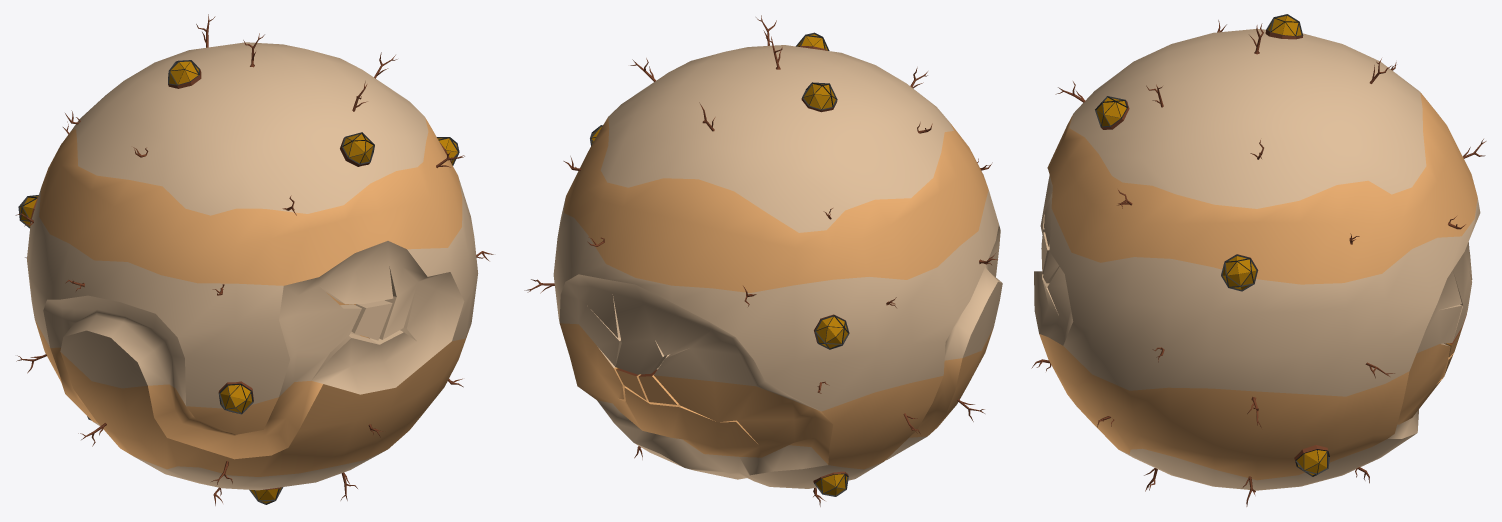
Rendered from Planet-TypeC-Drought.fbx.
The picture shows the model from 3 angles, left to right: view 1: azimuth 30°, elevation 25°; view 2: azimuth 150°, elevation 25°; view 3: azimuth 270°, elevation 25°; orthographic projection. The views are drawn at different scales.
Parts seen in each view (by area): view 1: Planet_TypeC_Drought_01; view 2: Planet_TypeC_Drought_01; view 3: Planet_TypeC_Drought_01.
Part boxes in pixels (x1,y1,x2,y2): Planet_TypeC_Drought_01: (15, 14, 493, 505); Planet_TypeC_Drought_01: (524, 15, 1002, 506); Planet_TypeC_Drought_01: (1031, 14, 1486, 506).
Bounding box in the file's own units: 1.86 × 1.88 × 1.7.
